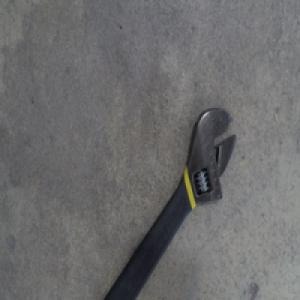AdjustableWrench: (102, 106, 238, 299)
